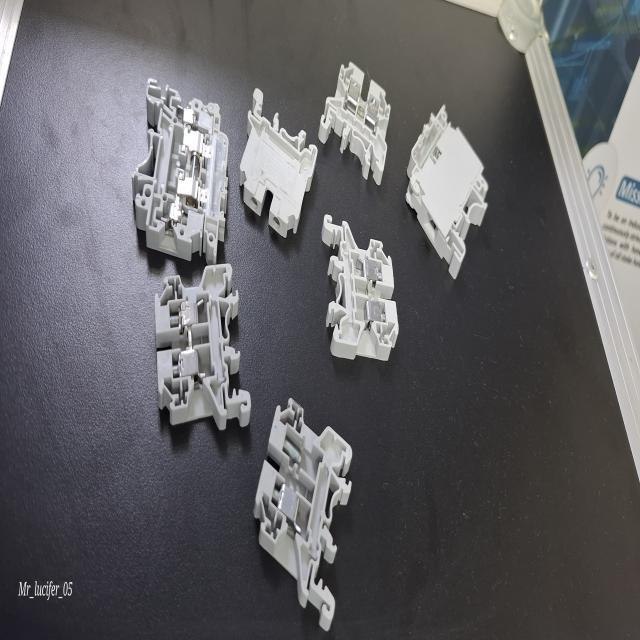Inverted: (232, 58, 318, 248)
Pass: (140, 265, 260, 452), (316, 201, 408, 396), (320, 40, 398, 202)
Reject: (257, 373, 365, 640)
